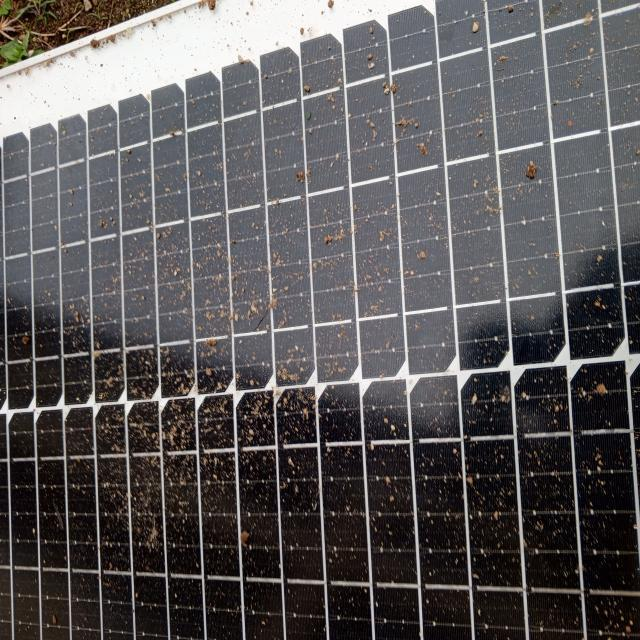Surface Contaminant: (59, 92, 639, 325)
